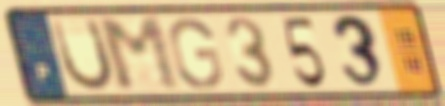3: (330, 10, 391, 92), (224, 14, 276, 92)
5: (277, 15, 329, 89)
G: (166, 16, 225, 91)
M: (94, 14, 186, 95)
U: (49, 15, 117, 94)
